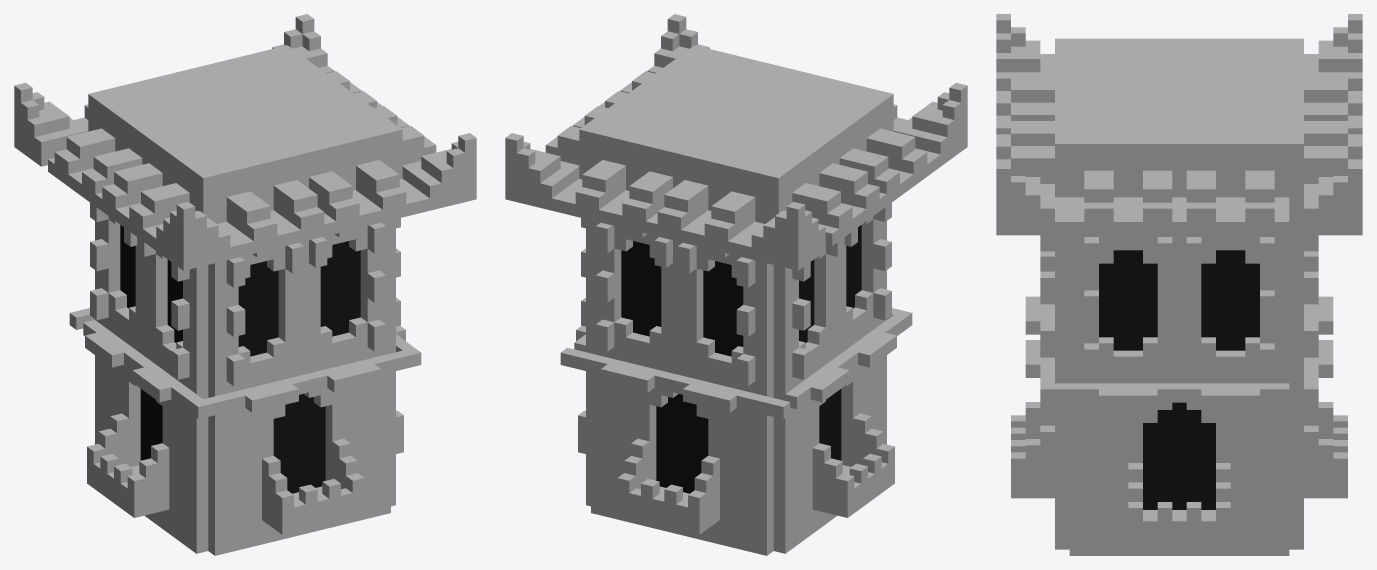
The model's file is TwentyThreeModel.fbx.
3 views of the same model, side by side, from view 1: azimuth 30°, elevation 25°; view 2: azimuth 150°, elevation 25°; view 3: azimuth 270°, elevation 25° (orthographic). The views are drawn at different scales.
Parts seen in each view (by area): view 1: Box; view 2: Box; view 3: Box.
Boxes of the visible parts, <box> form: Box: <box>14,14,476,555</box>; Box: <box>505,14,967,555</box>; Box: <box>996,14,1362,555</box>.
Size of the model in its own units: 25 by 31 by 25.
1 material, 1 textured.
